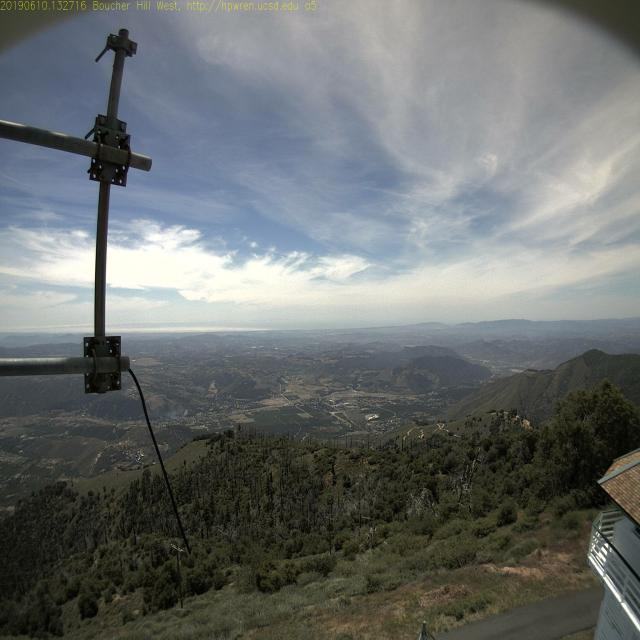smoke: (168, 398, 195, 427), (163, 405, 191, 421)
